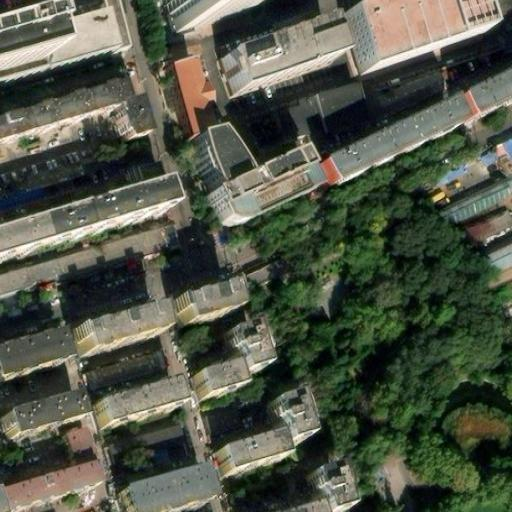building: (310, 101, 454, 190), (0, 6, 112, 85), (207, 148, 314, 224), (217, 28, 331, 98), (62, 227, 174, 278), (78, 184, 169, 236), (77, 313, 163, 360), (448, 63, 512, 124), (115, 470, 207, 512), (93, 385, 178, 430), (435, 179, 512, 227), (154, 63, 198, 140), (193, 127, 243, 187), (314, 83, 371, 135), (111, 421, 187, 460), (381, 70, 448, 112), (91, 350, 164, 387), (223, 429, 290, 468), (174, 289, 236, 329), (229, 317, 274, 369), (307, 467, 351, 512), (280, 390, 321, 435), (196, 360, 245, 396), (0, 26, 37, 72), (465, 207, 512, 243), (58, 425, 94, 471), (259, 250, 301, 282), (485, 243, 512, 275), (492, 136, 512, 176)
